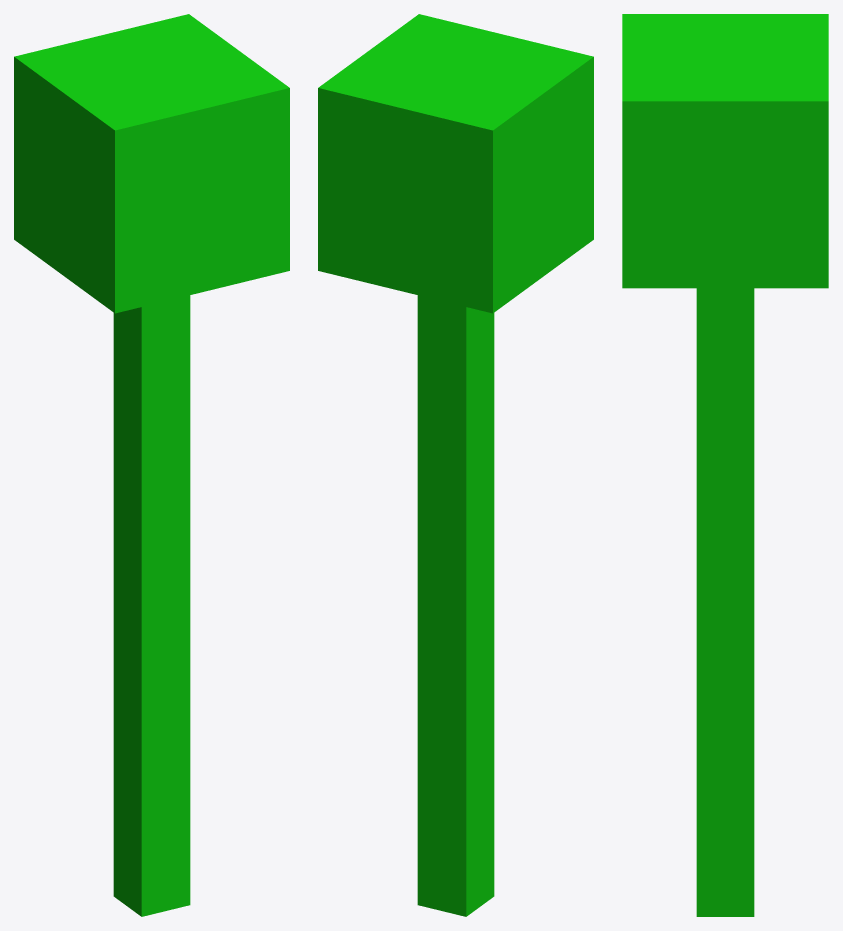
The model's file is scale-gizmo-y.glb.
The picture shows the model from 3 angles, left to right: view 1: azimuth 30°, elevation 25°; view 2: azimuth 150°, elevation 25°; view 3: azimuth 270°, elevation 25°; orthographic projection. The views are drawn at different scales.
Parts seen in each view (by area): view 1: scale-gizmo-y; view 2: scale-gizmo-y; view 3: scale-gizmo-y.
Part boxes in pixels (x1,y1,x2,y2): scale-gizmo-y: (14, 14, 289, 916); scale-gizmo-y: (318, 14, 593, 916); scale-gizmo-y: (622, 14, 828, 916).
Bounding box in the file's own units: 0.72 × 3.26 × 0.72.
